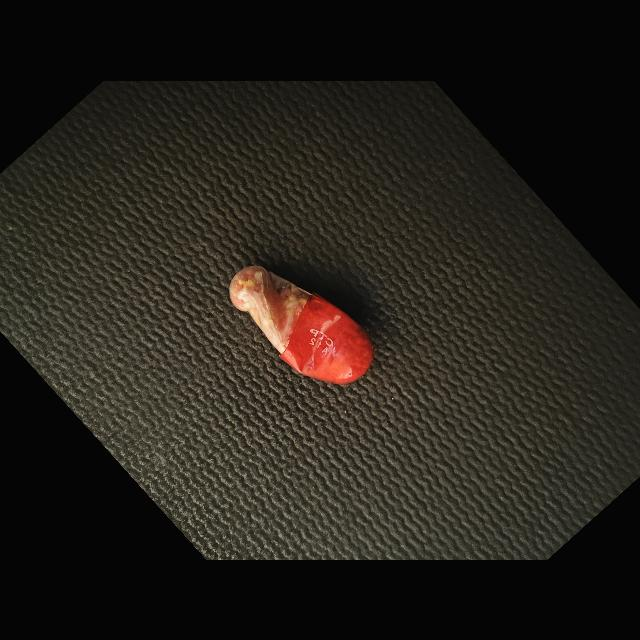Defective Capsule: (229, 265, 373, 384)
